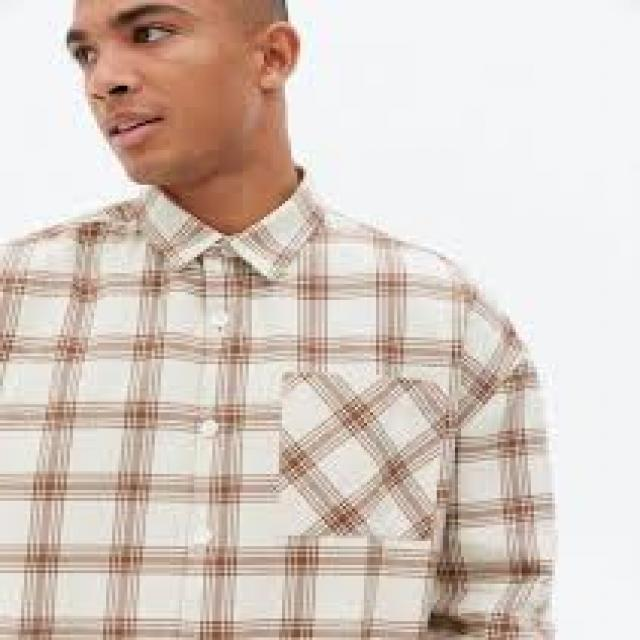plaid: (9, 185, 553, 640)
